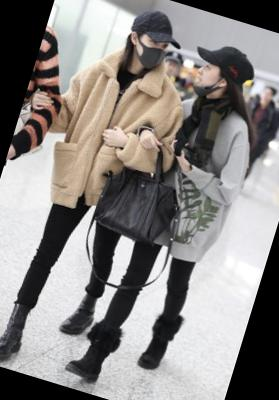mask_weared_incorrect: (190, 58, 226, 98)
with_mask: (129, 32, 171, 73)
